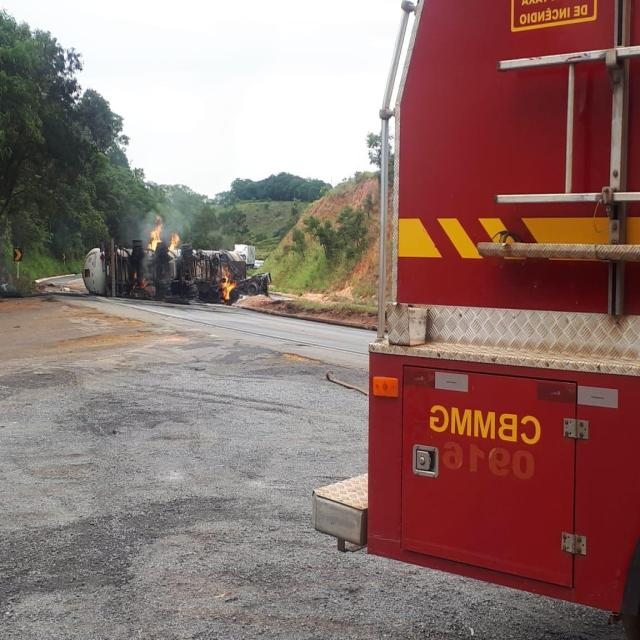fire: (144, 216, 184, 258), (216, 268, 237, 303)
